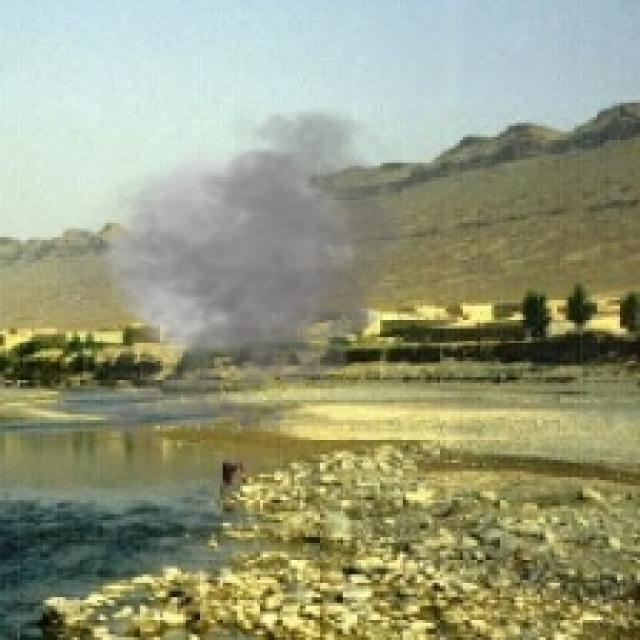Smoke: (31, 94, 432, 454)
